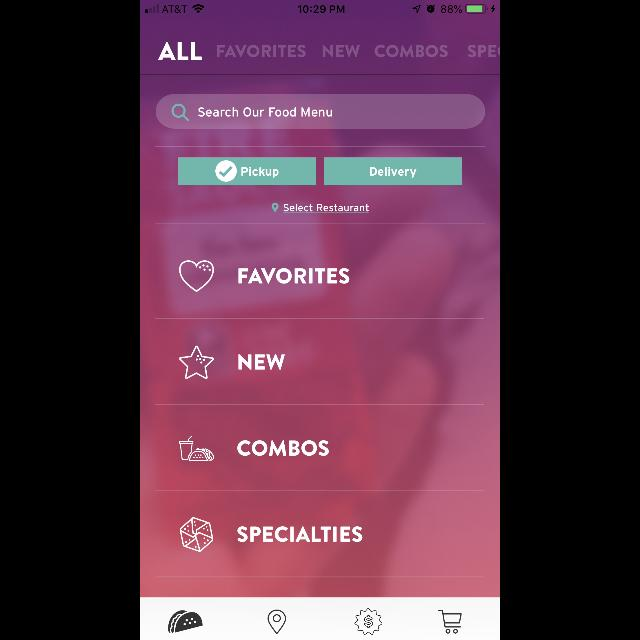backgroundimage: (140, 0, 500, 598)
icon: (355, 608, 383, 634), (438, 610, 462, 634), (268, 610, 286, 634), (172, 104, 188, 120), (272, 203, 278, 213)
image: (180, 516, 214, 552), (180, 346, 214, 378), (180, 261, 214, 293), (180, 436, 214, 462), (168, 610, 204, 634)
input: (156, 94, 484, 128)
text: (238, 526, 362, 542), (238, 268, 349, 284), (237, 440, 329, 456), (217, 44, 306, 58), (198, 108, 332, 116), (374, 44, 448, 58), (158, 41, 202, 60), (283, 204, 369, 213), (238, 354, 286, 370), (322, 44, 360, 58), (468, 44, 500, 58)
textbutton: (324, 158, 462, 186), (178, 158, 316, 186)
uppertaskbar: (140, 0, 500, 14)
